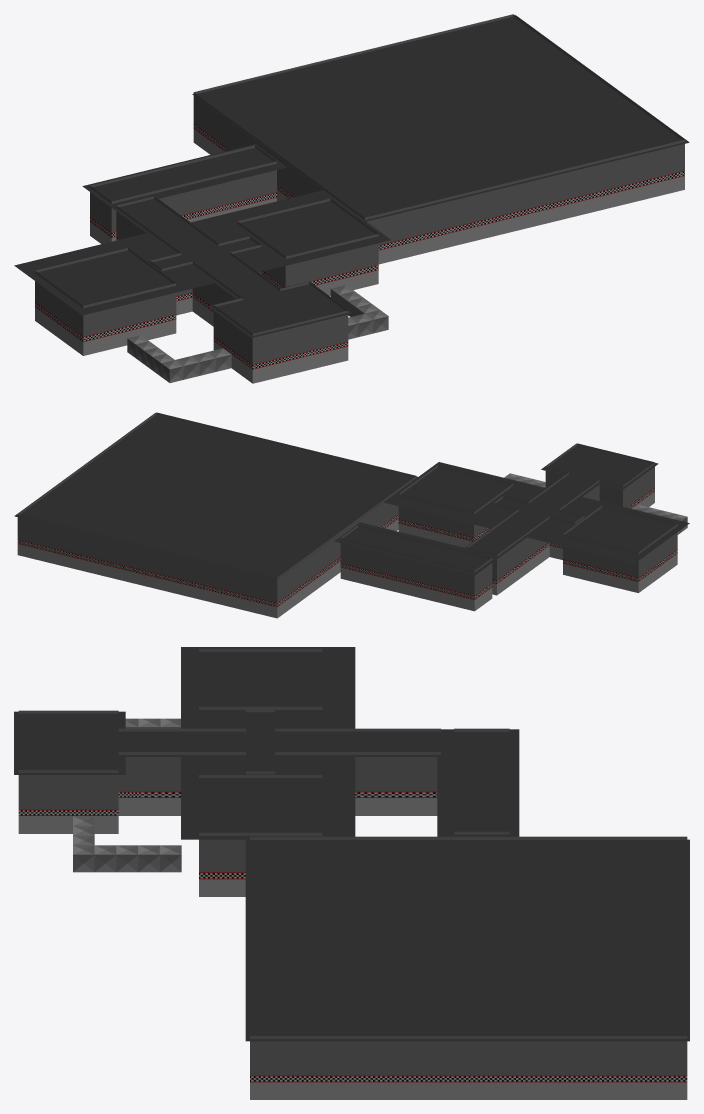
File: building.glb
3 views of the same model, one above another, from view 1: azimuth 30°, elevation 25°; view 2: azimuth 150°, elevation 25°; view 3: azimuth 270°, elevation 25° (orthographic). The views are drawn at different scales.
Visible parts, largest first — view 1: Ceiling, Cube.003, Object, Cube, Cube.002, Cube.001; view 2: Ceiling, Cube.003, Cube.002, Object, Cube, Cube.001; view 3: Ceiling, Cube.003, Object, Cube.001, Cube.
Boxes of the visible parts, left/top/right/bottom form: Ceiling: left=14, top=15, right=689, bottom=337; Cube.003: left=193, top=14, right=684, bottom=264; Object: left=116, top=196, right=388, bottom=383; Cube: left=35, top=248, right=176, bottom=355; Cube.002: left=90, top=145, right=276, bottom=243; Cube.001: left=237, top=198, right=378, bottom=295; Ceiling: left=14, top=413, right=689, bottom=580; Cube.003: left=17, top=412, right=416, bottom=618; Cube.002: left=340, top=525, right=492, bottom=611; Object: left=466, top=443, right=687, bottom=595; Cube: left=563, top=505, right=677, bottom=592; Cube.001: left=398, top=465, right=513, bottom=547; Ceiling: left=14, top=647, right=689, bottom=1041; Cube.003: left=250, top=836, right=687, bottom=1099; Object: left=18, top=709, right=440, bottom=872; Cube.001: left=199, top=775, right=322, bottom=896; Cube: left=199, top=648, right=322, bottom=709.
Size of the model in its own units: 52.97 by 4.02 by 38.39.
4 materials, 3 textured.
